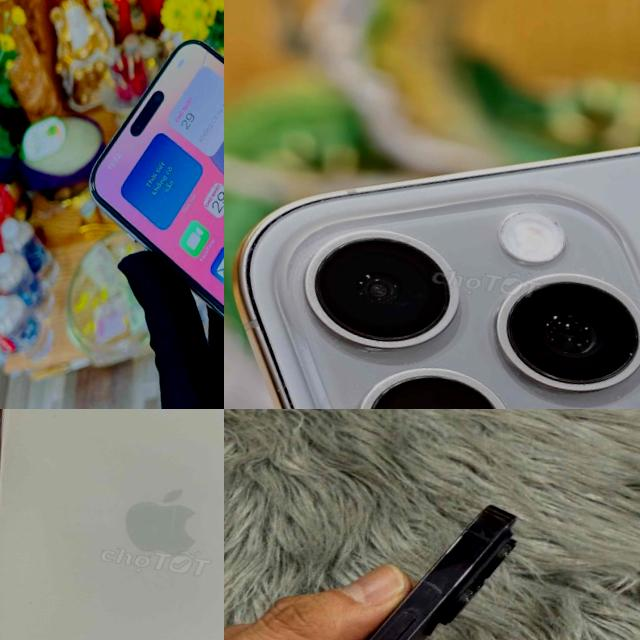gen_12_13: (39, 17, 224, 409)
gen_14: (366, 506, 515, 640)
gen_15: (0, 409, 224, 640)
gen_16: (224, 27, 640, 409)
